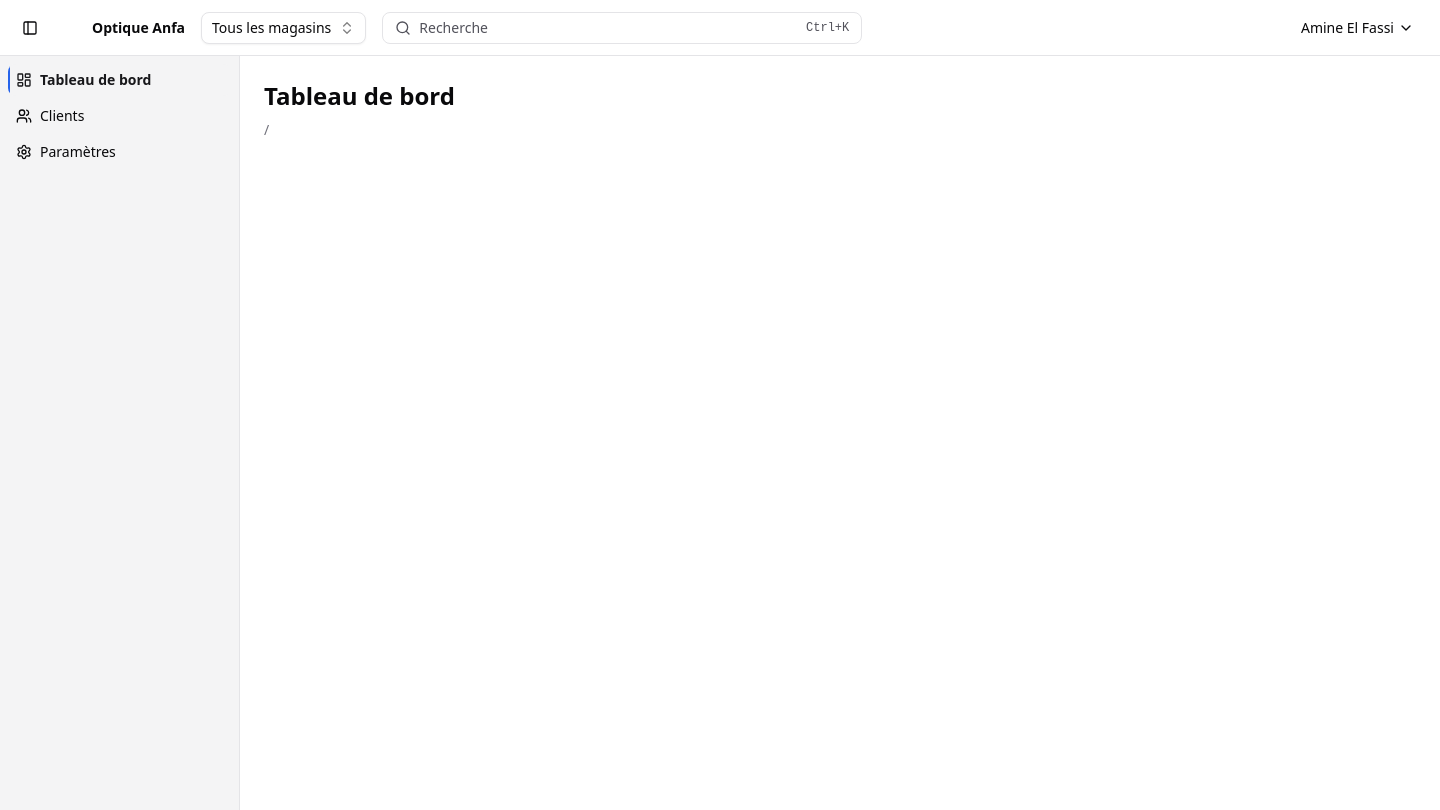
Test case: le selecteur de magasin › « Tous les magasins » n'apparait qu'a partir de deux magasins detenus
Expected: the navigation bar named "Navigation principale" is shown, [8,64,231,161]
What coordinates should you click on to do the following:
click the dropdown
I would click on:
 (284, 28)
Its box is [201,12,366,44].
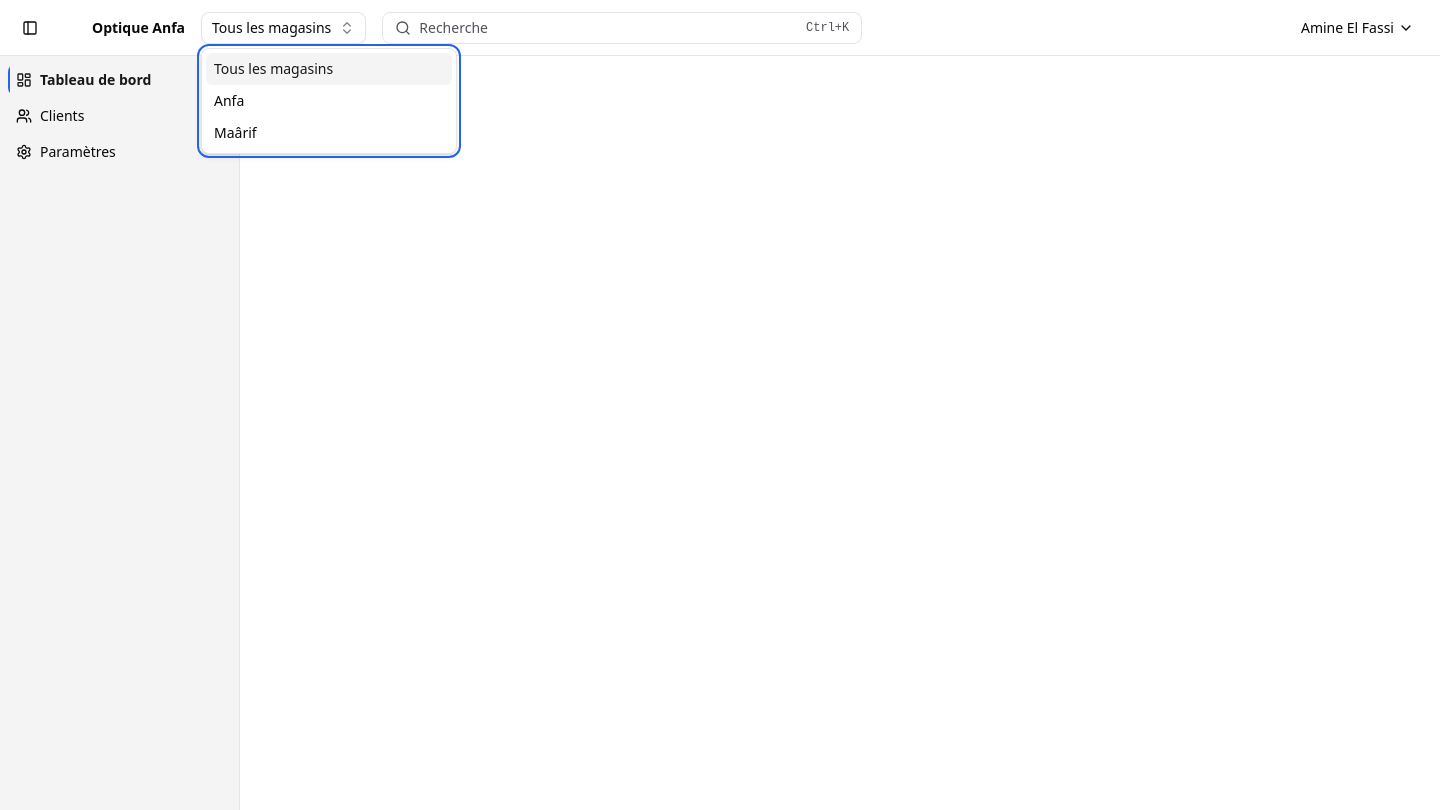
Result: the option "Anfa" is shown at [214,91,244,110]
Result: the option "Tous les magasins" is shown at [206,53,452,85]
